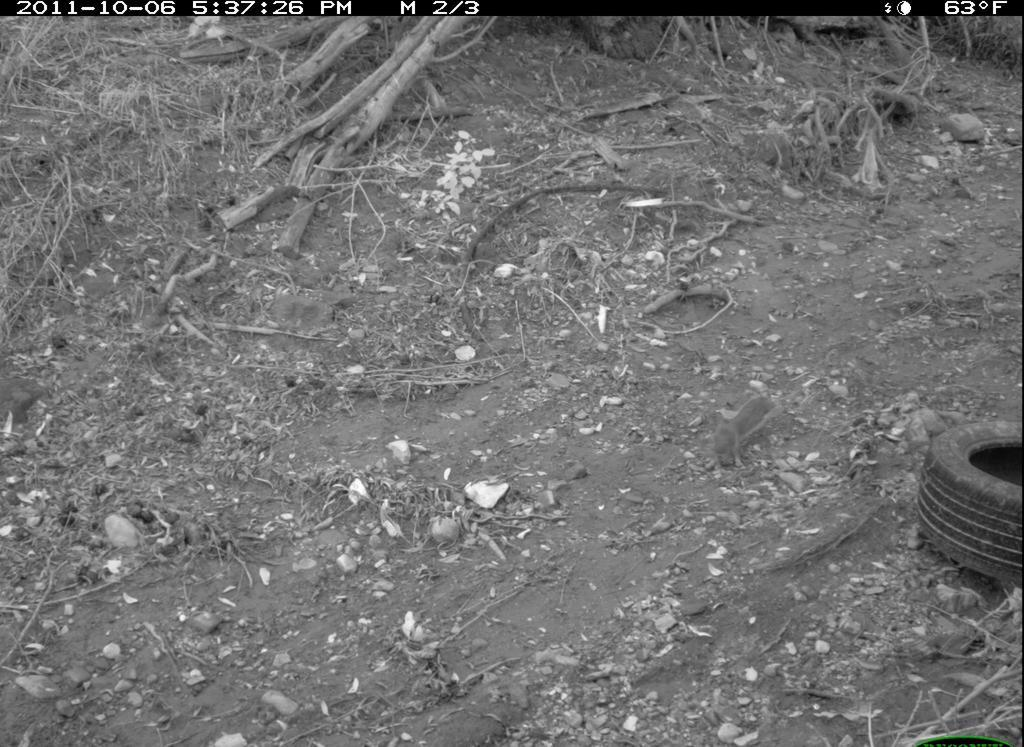squirrel: (712, 393, 781, 478)
